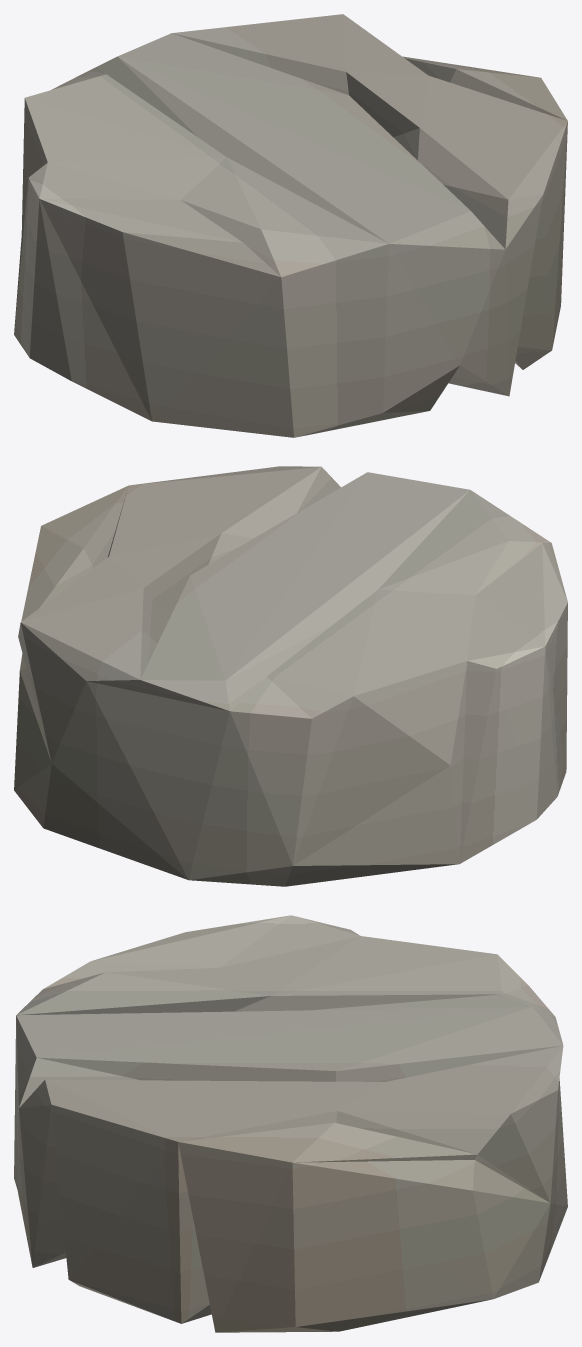
The model's file is 3D_PillarsCircle2.fbx.
3 views of the same model, one above another, from view 1: azimuth 30°, elevation 25°; view 2: azimuth 150°, elevation 25°; view 3: azimuth 270°, elevation 25° (orthographic).
Visible parts, largest first — view 1: PillarsCircle2; view 2: PillarsCircle2; view 3: PillarsCircle2.
Boxes of the visible parts, x1,y1,x2,y2 form: PillarsCircle2: (14, 14, 567, 437); PillarsCircle2: (14, 466, 567, 886); PillarsCircle2: (14, 915, 567, 1332).
Bounding box in the file's own units: 57.91 × 21.11 × 54.79.
